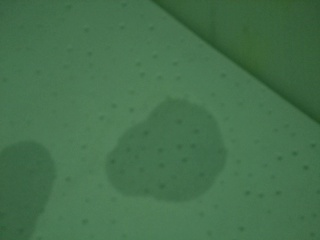Water_detected: (109, 106, 208, 187), (0, 156, 48, 230)
